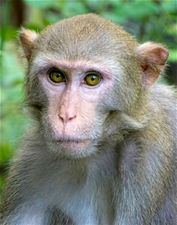monkey: (5, 11, 168, 225)
